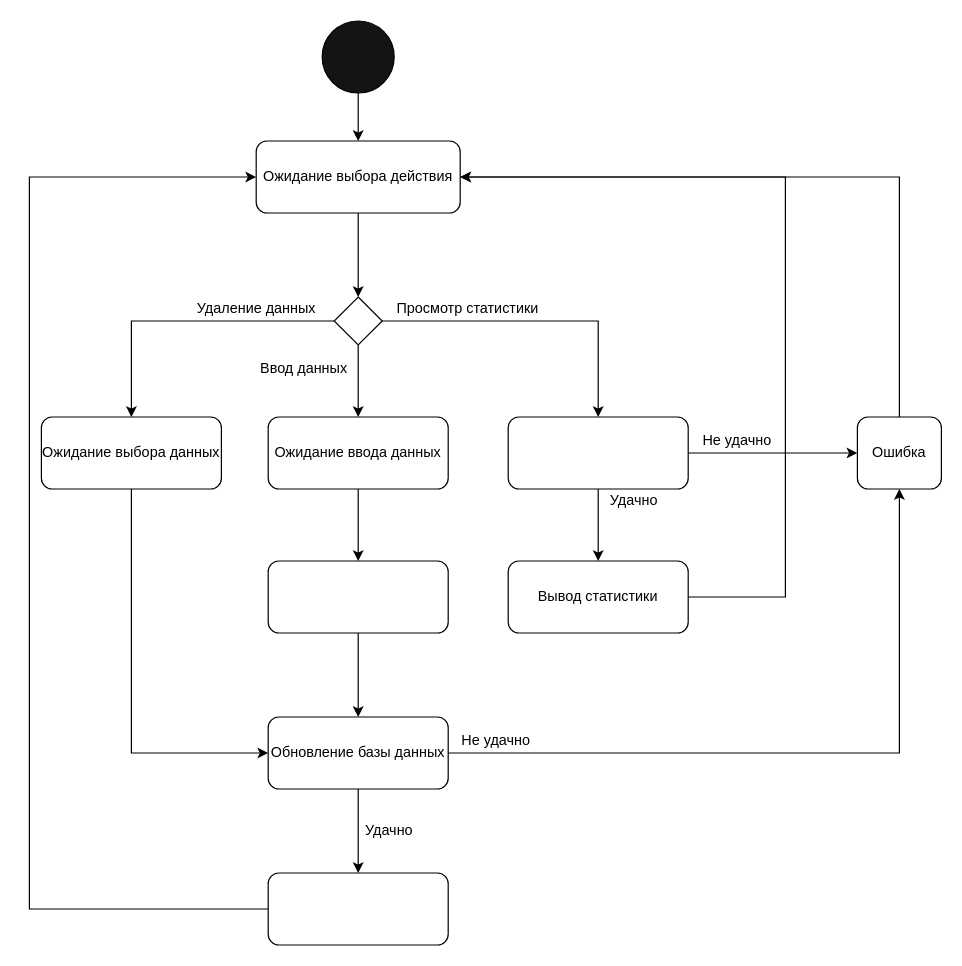
Some shapes in this 962 by 966 pixel diagram are drawn without their labels. Each missing label, with the box of its shape:
Вывод обновленных данных: (267, 872, 448, 945)
Генерация статистики: (507, 416, 688, 489)
Обработка данных: (267, 560, 448, 633)
